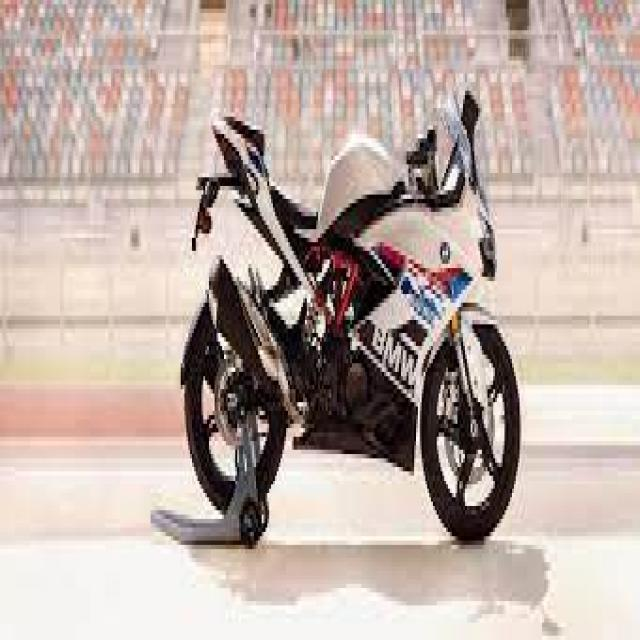Bike: (179, 90, 521, 545)
